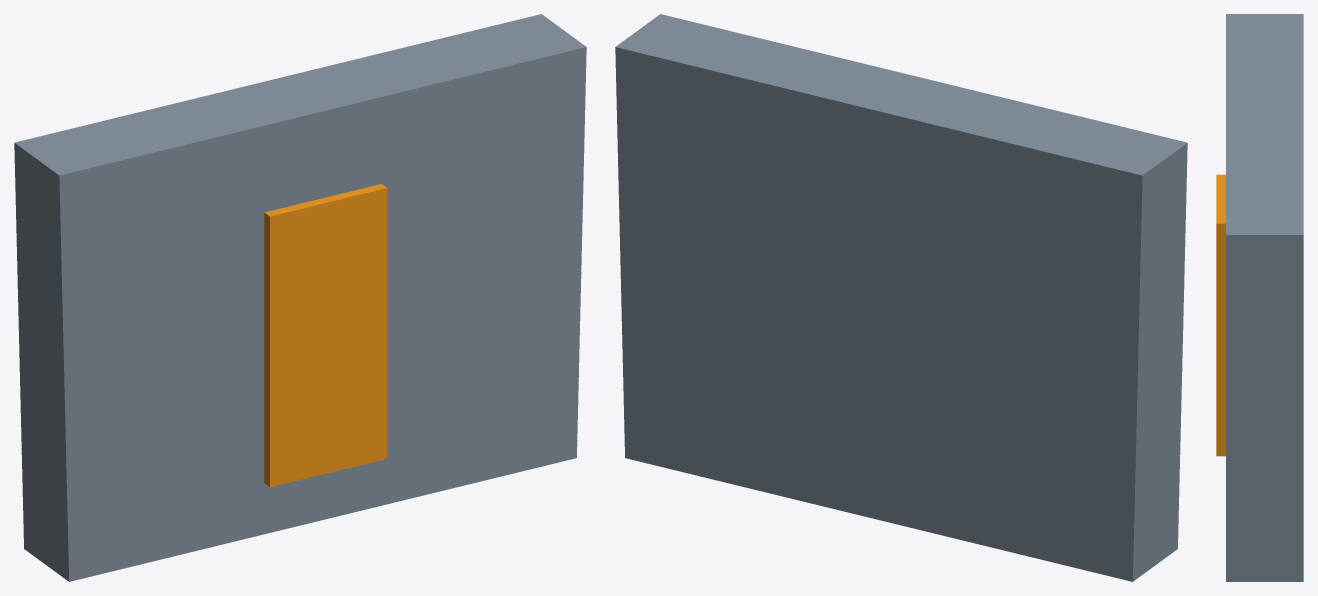
The model's file is Armour.glb.
3 renders of one model, left to right at view 1: azimuth 30°, elevation 25°; view 2: azimuth 150°, elevation 25°; view 3: azimuth 270°, elevation 25°, orthographic. The views are drawn at different scales.
Parts seen in each view (by area): view 1: blast_plate, crest; view 2: blast_plate; view 3: blast_plate, crest.
Part boxes in pixels (x1=…): blast_plate: x1=14, y1=14, x2=586, y2=581; crest: x1=264, y1=184, x2=387, y2=487; blast_plate: x1=615, y1=14, x2=1187, y2=581; blast_plate: x1=1226, y1=14, x2=1303, y2=581; crest: x1=1216, y1=174, x2=1225, y2=456.
Size of the model in its own units: 2.16 by 1.6 by 0.36.
